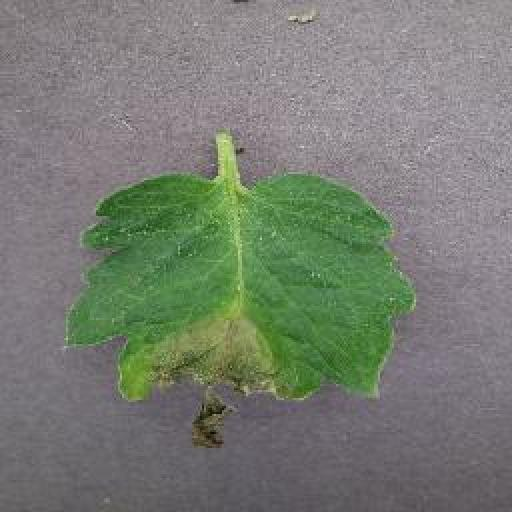Late Blight: (60, 171, 419, 448)
